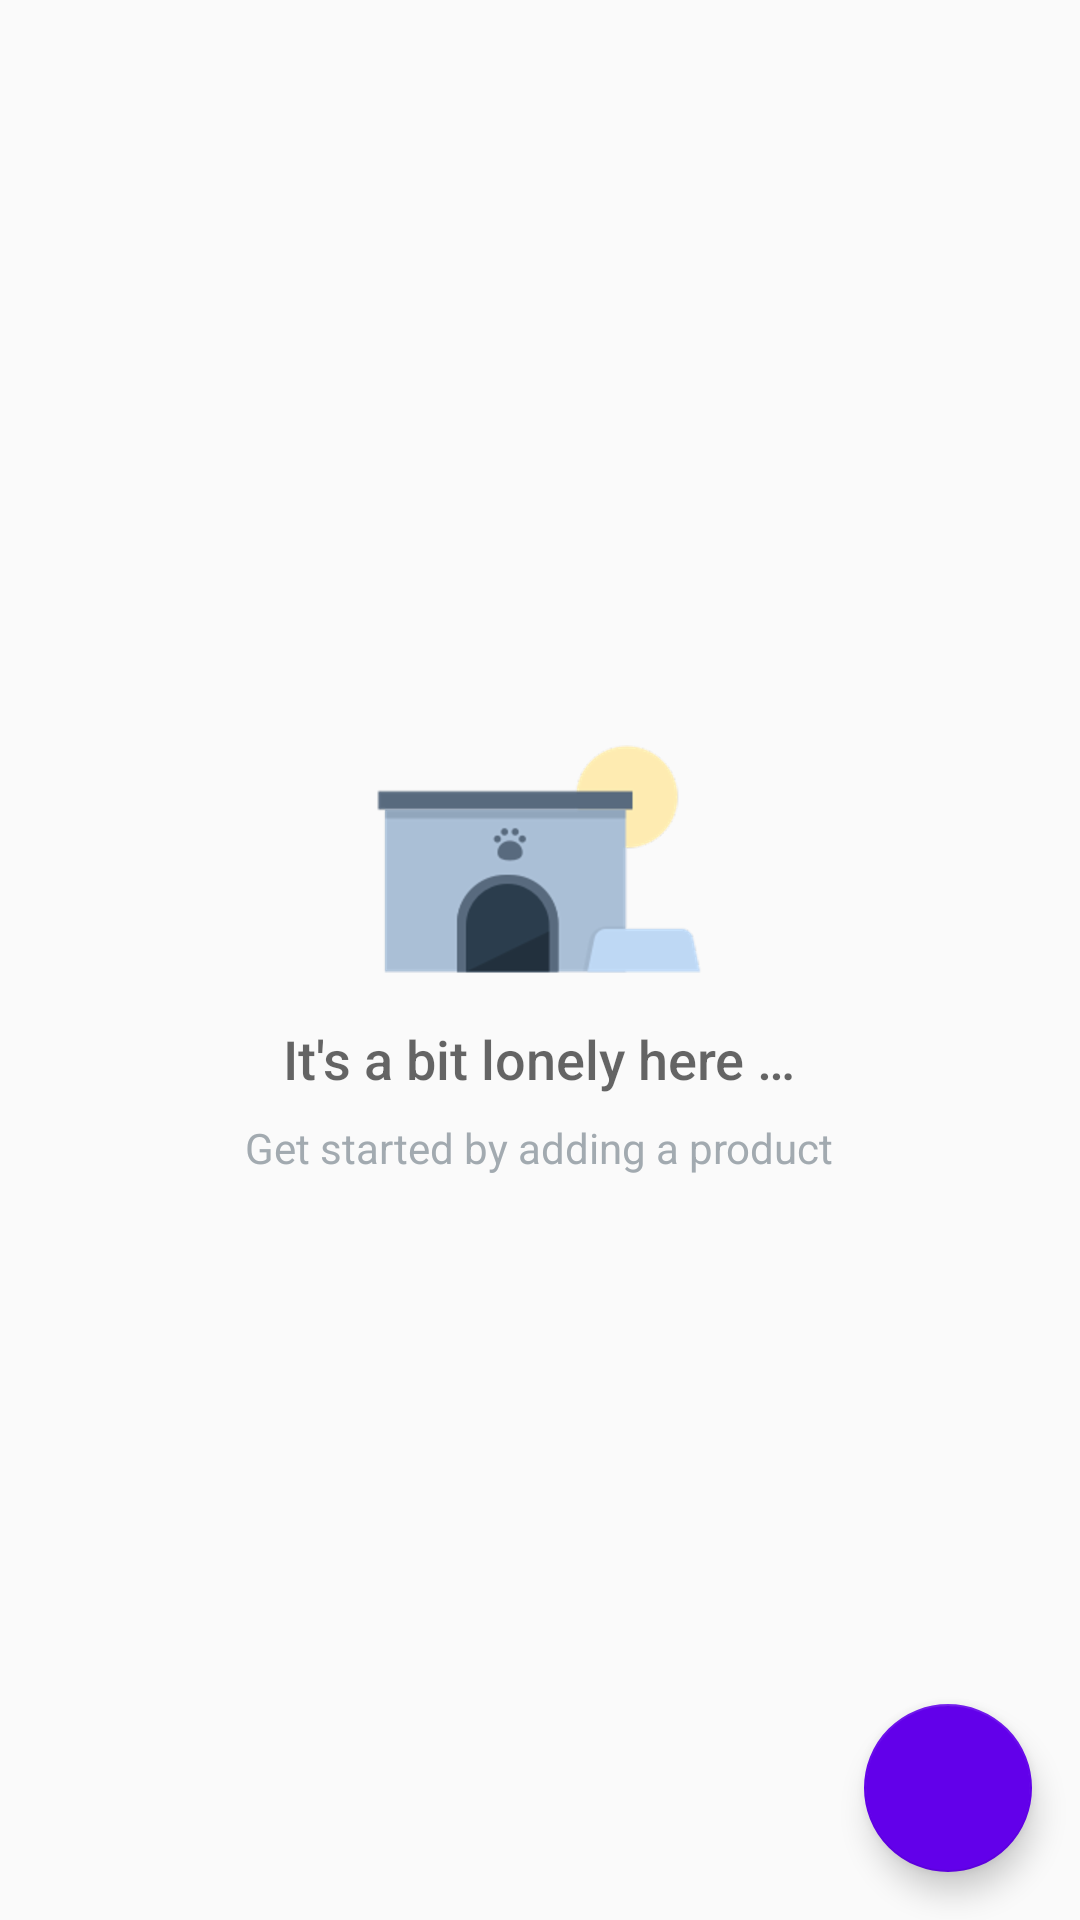

Locate icon controls on the screen. Image size 1080px x 1920px, boxes as (x1, y1, x2, y2).
empty store: (377, 746, 700, 973)
